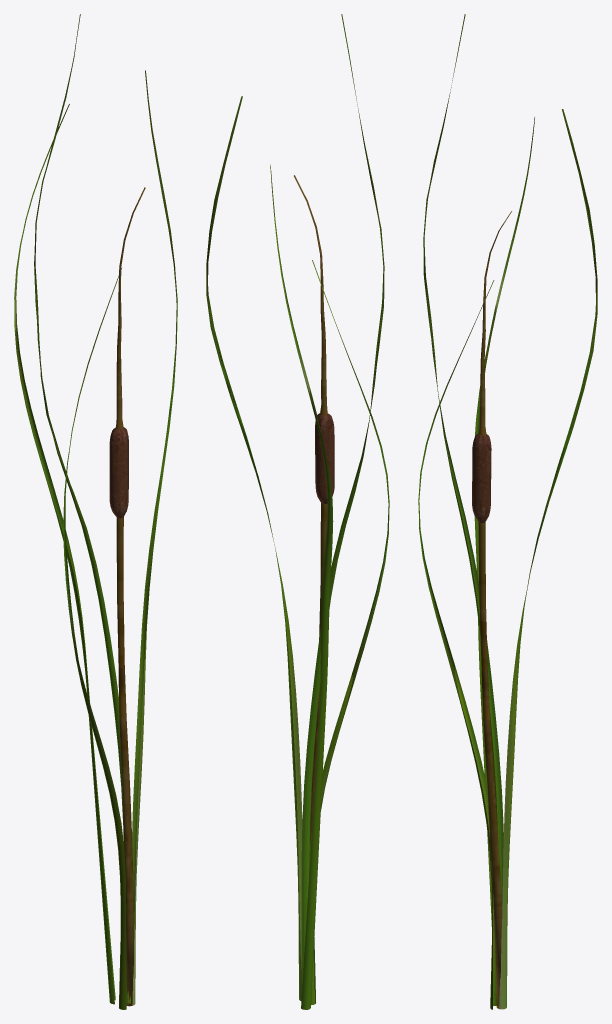
The model's file is Grass_2.FBX.
3 views of the same model, side by side, from view 1: azimuth 30°, elevation 25°; view 2: azimuth 150°, elevation 25°; view 3: azimuth 330°, elevation 25° (orthographic). The views are drawn at different scales.
Parts seen in each view (by area): view 1: Cattail 04, Cattail Leaf 05, Cattail Leaf 07, Cattail Leaf 08, Cattail Leaf 06, Cattail 05, Cattail 06; view 2: Cattail Leaf 07, Cattail Leaf 06, Cattail Leaf 05, Cattail Leaf 08, Cattail 05, Cattail 04, Cattail 06; view 3: Cattail Leaf 05, Cattail 04, Cattail Leaf 06, Cattail Leaf 08, Cattail 05, Cattail Leaf 07, Cattail 06.
Part boxes in pixels (x1=…): Cattail 04: x1=116, y1=517, x2=134, y2=1006; Cattail Leaf 05: x1=132, y1=70, x2=177, y2=1005; Cattail Leaf 07: x1=14, y1=104, x2=115, y2=1004; Cattail Leaf 08: x1=63, y1=268, x2=126, y2=1009; Cattail Leaf 06: x1=34, y1=14, x2=130, y2=1003; Cattail 05: x1=109, y1=427, x2=128, y2=518; Cattail 06: x1=116, y1=187, x2=145, y2=428; Cattail Leaf 07: x1=270, y1=164, x2=333, y2=1009; Cattail Leaf 06: x1=301, y1=14, x2=384, y2=994; Cattail Leaf 05: x1=206, y1=96, x2=302, y2=1000; Cattail Leaf 08: x1=309, y1=260, x2=389, y2=1004; Cattail 05: x1=315, y1=413, x2=334, y2=503; Cattail 04: x1=301, y1=503, x2=327, y2=982; Cattail 06: x1=294, y1=175, x2=327, y2=414; Cattail Leaf 05: x1=499, y1=109, x2=597, y2=1009; Cattail 04: x1=478, y1=522, x2=502, y2=1008; Cattail Leaf 06: x1=423, y1=14, x2=503, y2=1005; Cattail Leaf 08: x1=418, y1=280, x2=496, y2=1009; Cattail 05: x1=472, y1=433, x2=491, y2=522; Cattail Leaf 07: x1=474, y1=117, x2=534, y2=926; Cattail 06: x1=479, y1=211, x2=511, y2=435.
Size of the model in its own units: 3.52 by 21.11 by 2.75.
